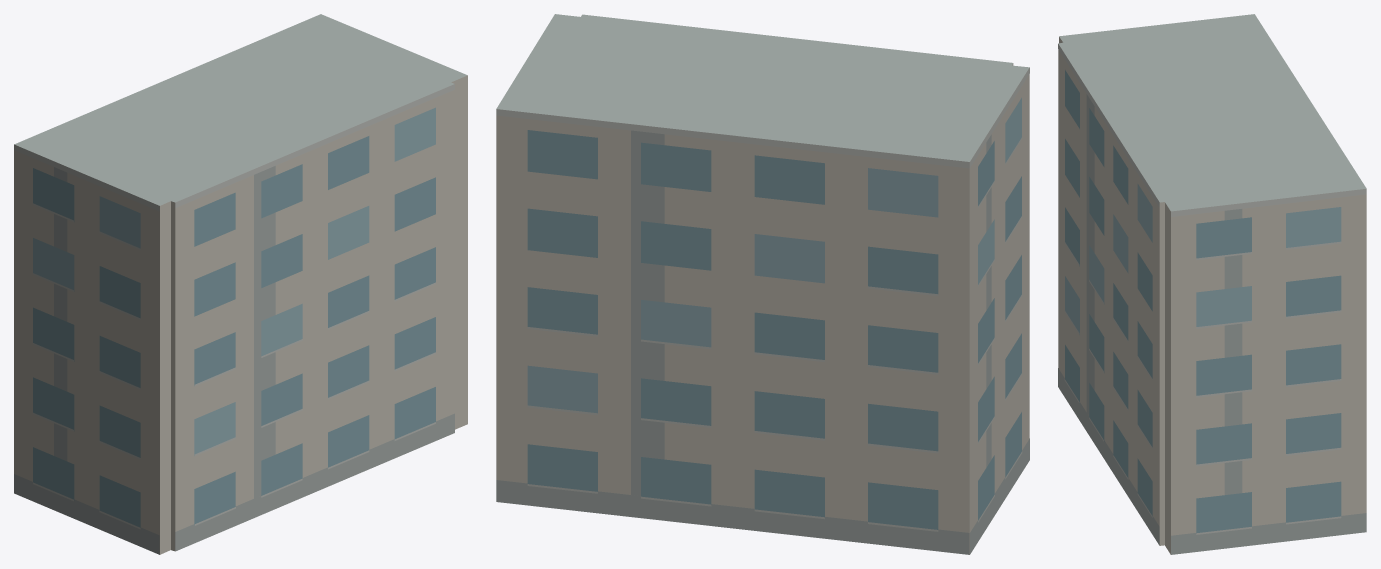
File: survey-upis-32824944.glb
The picture shows the model from 3 angles, left to right: view 1: azimuth 30°, elevation 25°; view 2: azimuth 150°, elevation 25°; view 3: azimuth 270°, elevation 25°; orthographic projection. The views are drawn at different scales.
Parts seen in each view (by area): view 1: survey-upis-32824944.tmp; view 2: survey-upis-32824944.tmp; view 3: survey-upis-32824944.tmp.
Part boxes in pixels (box(x1,y1,x2,y2)): survey-upis-32824944.tmp: box(14, 14, 467, 554); survey-upis-32824944.tmp: box(496, 14, 1029, 554); survey-upis-32824944.tmp: box(1058, 14, 1366, 554).
Size of the model in its own units: 18.5 by 15 by 12.23.
